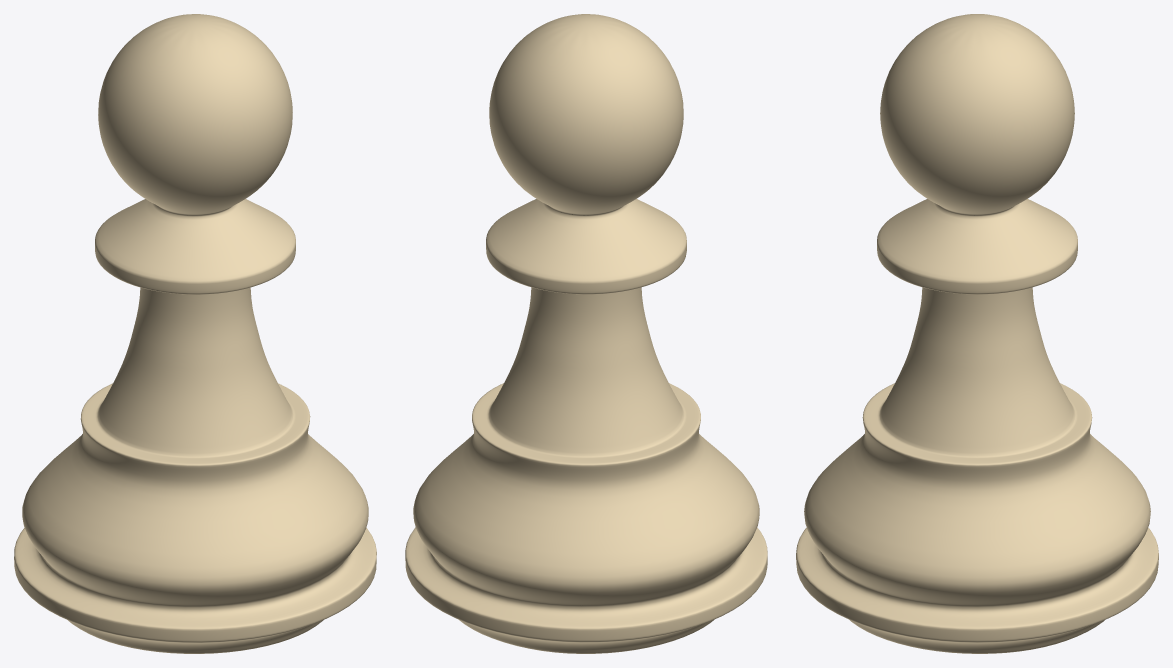
File: gercektam_p_w.glb
3 views of the same model, side by side, from view 1: azimuth 30°, elevation 25°; view 2: azimuth 150°, elevation 25°; view 3: azimuth 270°, elevation 25° (orthographic).
Parts seen in each view (by area): view 1: Sphere.011; view 2: Sphere.011; view 3: Sphere.011.
Part boxes in pixels (x1,y1,x2,y2): Sphere.011: (14,14,376,653); Sphere.011: (405,14,767,653); Sphere.011: (796,14,1158,653).
Size of the model in its own units: 0.9344 by 1.63 by 0.9344.
